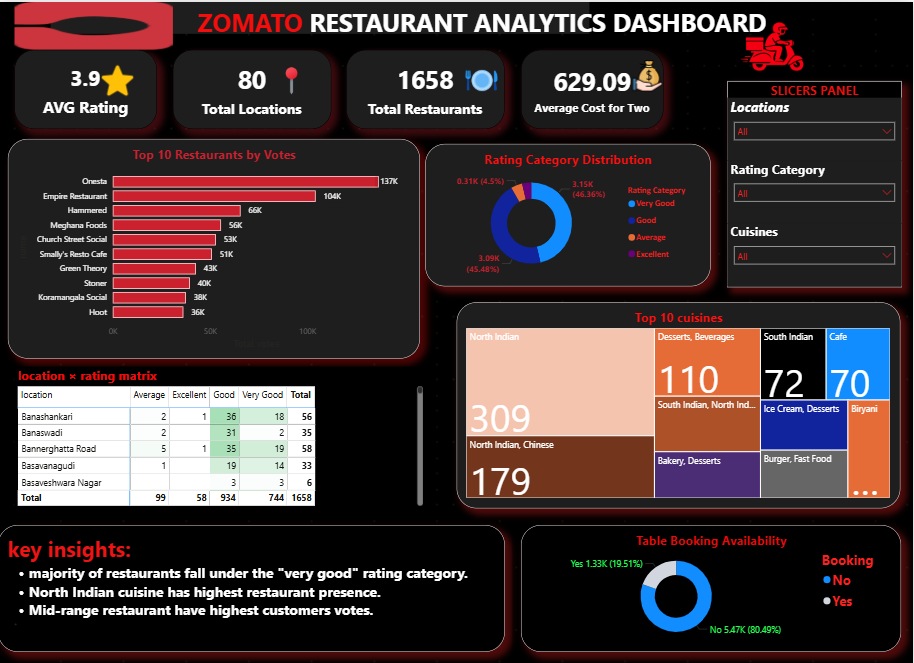

The dashboard page shown, as its layout file describes it:
{"tool":"powerbi","page":{"name":"Dashboard","canvas":[1386,1004],"ordinal":0},"visuals":[{"type":"shape","box":[80,0,816,48],"z":0},{"type":"textbox","box":[24,0,1200,120],"z":1000},{"type":"card","fields":{"Values":["zomato.Average Cost for Two"]},"box":[792,72,216,120],"z":2000},{"type":"card","fields":{"Values":["zomato.Total Restaurants"]},"box":[528,72,240,120],"z":3000},{"type":"card","fields":{"Values":["zomato.Total Locations"]},"box":[264,72,240,120],"z":4000},{"type":"card","fields":{"Values":["zomato.AVG Rating"]},"box":[24,72,216,120],"z":5000},{"type":"clusteredBarChart","title":"Top 10 Restaurants by Votes","fields":{"Category":["zomato.name"],"Y":["zomato.Total votes"]},"box":[16,208,624,333],"z":6000},{"type":"treemap","title":"Top 10 cuisines","fields":{"Group":["zomato.cuisines"],"Values":["CountNonNull(Zomato_Fact.name)"]},"box":[696,456,672,312],"z":7000},{"type":"donutChart","title":"Rating Category Distribution","fields":{"Category":["zomato.Rating Category"],"Y":["CountNonNull(zomato.name)"]},"box":[648,216,432,216],"z":8000},{"type":"textbox","title":"SLICERS PANEL","box":[1104,120,264,312],"z":9000},{"type":"slicer","title":"Locations","fields":{"Values":["zomato.location"]},"box":[1104,144,264,96],"z":10000},{"type":"slicer","title":"Rating Category","fields":{"Values":["zomato.Rating Category"]},"box":[1104,240,264,96],"z":11000},{"type":"slicer","title":"Cuisines","fields":{"Values":["zomato.cuisines"]},"box":[1104,336,264,96],"z":12000},{"type":"textbox","box":[0,792,768,192],"z":13000},{"type":"image","box":[24,0,240,72],"z":14000},{"type":"image","box":[672,96,120,48],"z":15000},{"type":"image","box":[144,96,72,48],"z":16000},{"type":"image","box":[408,96,75,48],"z":17000},{"type":"image","box":[960,80,48,64],"z":18000},{"type":"donutChart","title":"Table Booking Availability","fields":{"Category":["zomato.book_table"],"Y":["CountNonNull(zomato.name)"]},"box":[792,792,576,192],"z":19000},{"type":"image","box":[984,0,384,144],"z":21000},{"type":"pivotTable","title":"location × rating matrix","fields":{"Rows":["Zomato_Fact.location"],"Columns":["Zomato_Fact.Rating Category"],"Values":["Zomato_Fact.Total Restaurants"]},"box":[48,552,624,216],"z":21001}]}

Visuals, with their boxes in screenshot pixels (x1, y1, x2, y2), scaled from the page's 1386x1004 canvas onto the 914x663 screenshot:
shape: BBox(53, 0, 591, 32)
textbox: BBox(16, 0, 807, 79)
card - zomato.Average Cost for Two: BBox(522, 48, 665, 127)
card - zomato.Total Restaurants: BBox(348, 48, 506, 127)
card - zomato.Total Locations: BBox(174, 48, 332, 127)
card - zomato.AVG Rating: BBox(16, 48, 158, 127)
"Top 10 Restaurants by Votes" clusteredBarChart: BBox(11, 137, 422, 357)
"Top 10 cuisines" treemap: BBox(459, 301, 902, 507)
"Rating Category Distribution" donutChart: BBox(427, 143, 712, 285)
"SLICERS PANEL" textbox: BBox(728, 79, 902, 285)
"Locations" slicer: BBox(728, 95, 902, 158)
"Rating Category" slicer: BBox(728, 158, 902, 222)
"Cuisines" slicer: BBox(728, 222, 902, 285)
textbox: BBox(0, 523, 506, 650)
image: BBox(16, 0, 174, 48)
image: BBox(443, 63, 522, 95)
image: BBox(95, 63, 142, 95)
image: BBox(269, 63, 319, 95)
image: BBox(633, 53, 665, 95)
"Table Booking Availability" donutChart: BBox(522, 523, 902, 650)
image: BBox(649, 0, 902, 95)
"location × rating matrix" pivotTable: BBox(32, 365, 443, 507)
